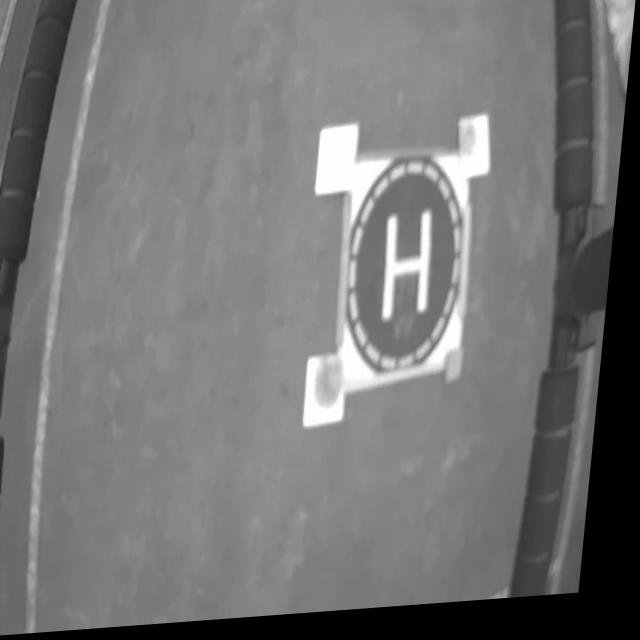Helipad: (388, 218, 438, 328)
